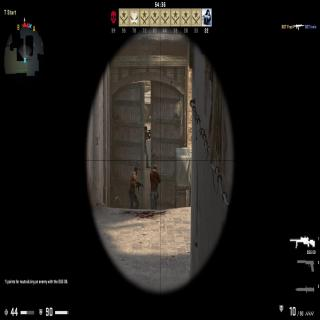T-Body: (148, 163, 162, 210), (128, 166, 140, 210), (144, 124, 150, 168)
T-Head: (134, 166, 138, 176), (153, 164, 157, 173), (144, 126, 148, 132)
